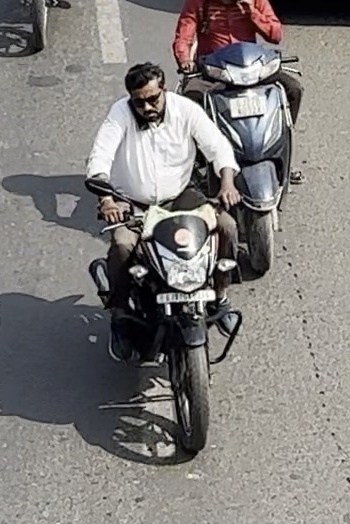BikeWithRider: (78, 60, 242, 456)
NoHelmet: (124, 62, 172, 125)
